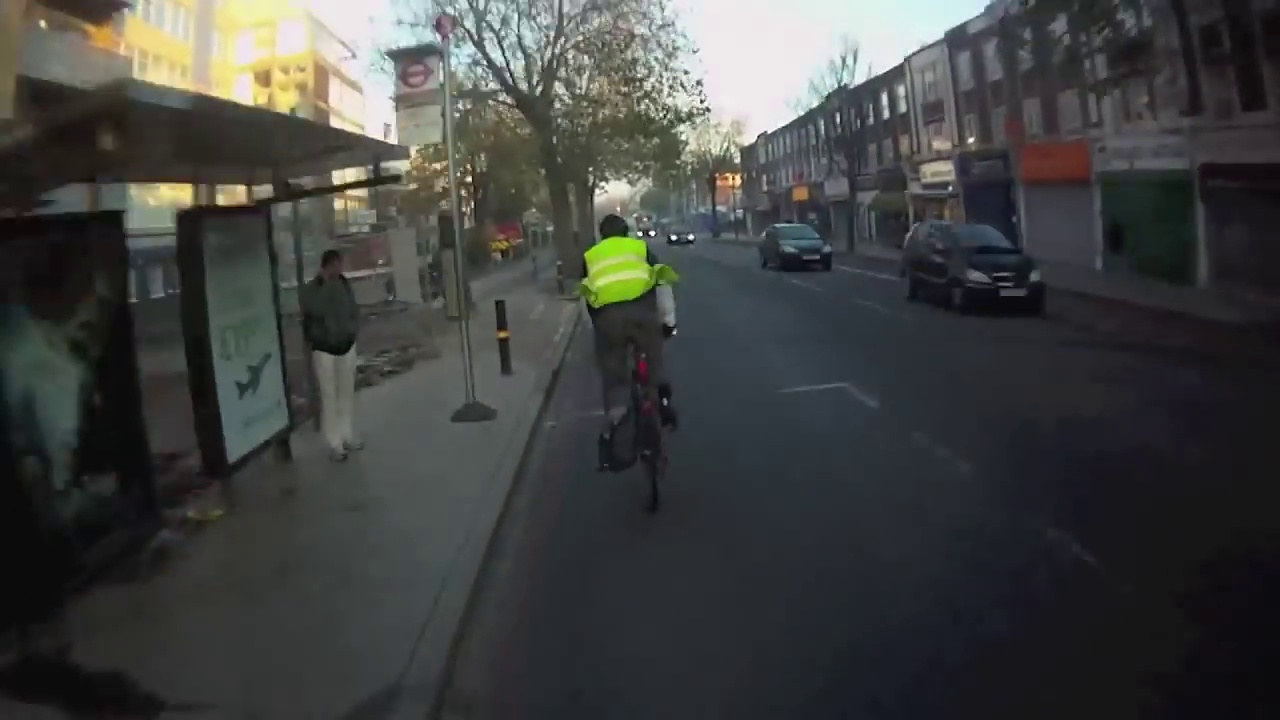cyclist_back: (576, 206, 696, 511)
